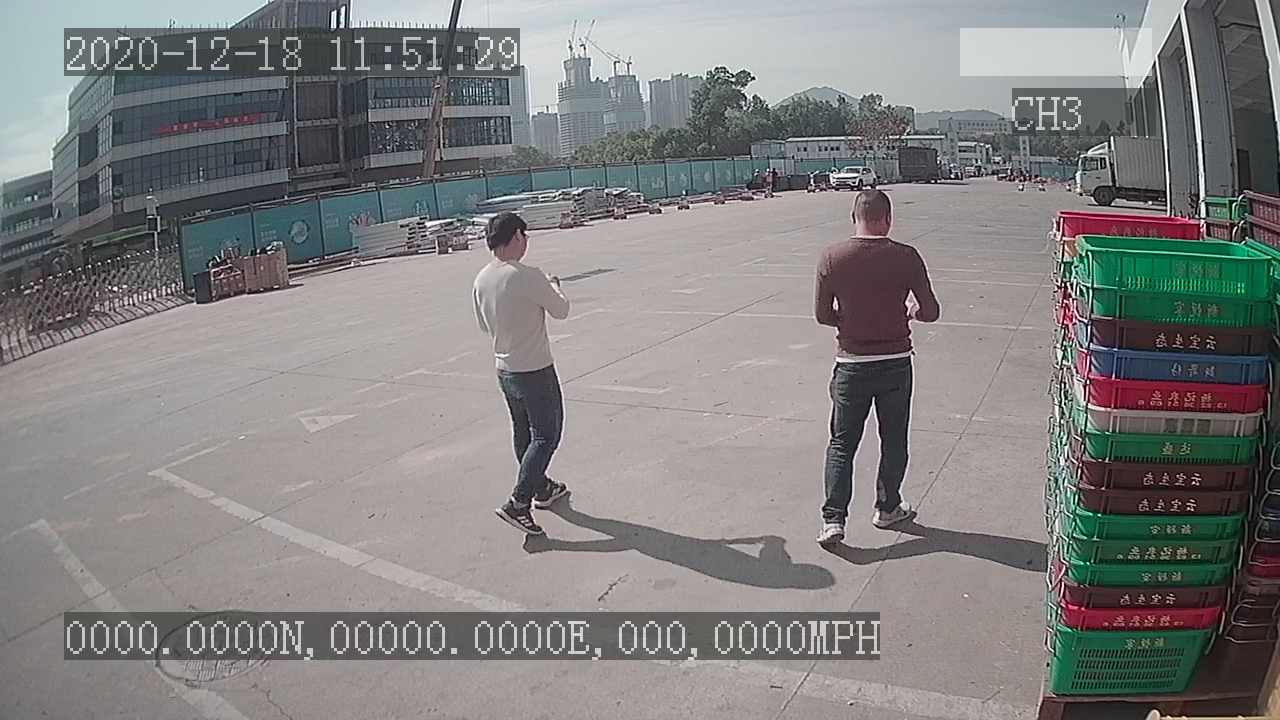person: (809, 179, 947, 554), (468, 208, 579, 540)
